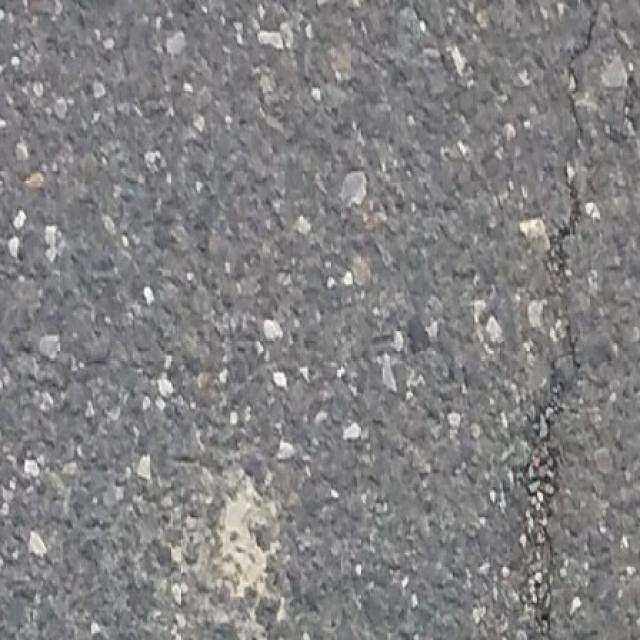Vertical Crack: (507, 4, 610, 640)
